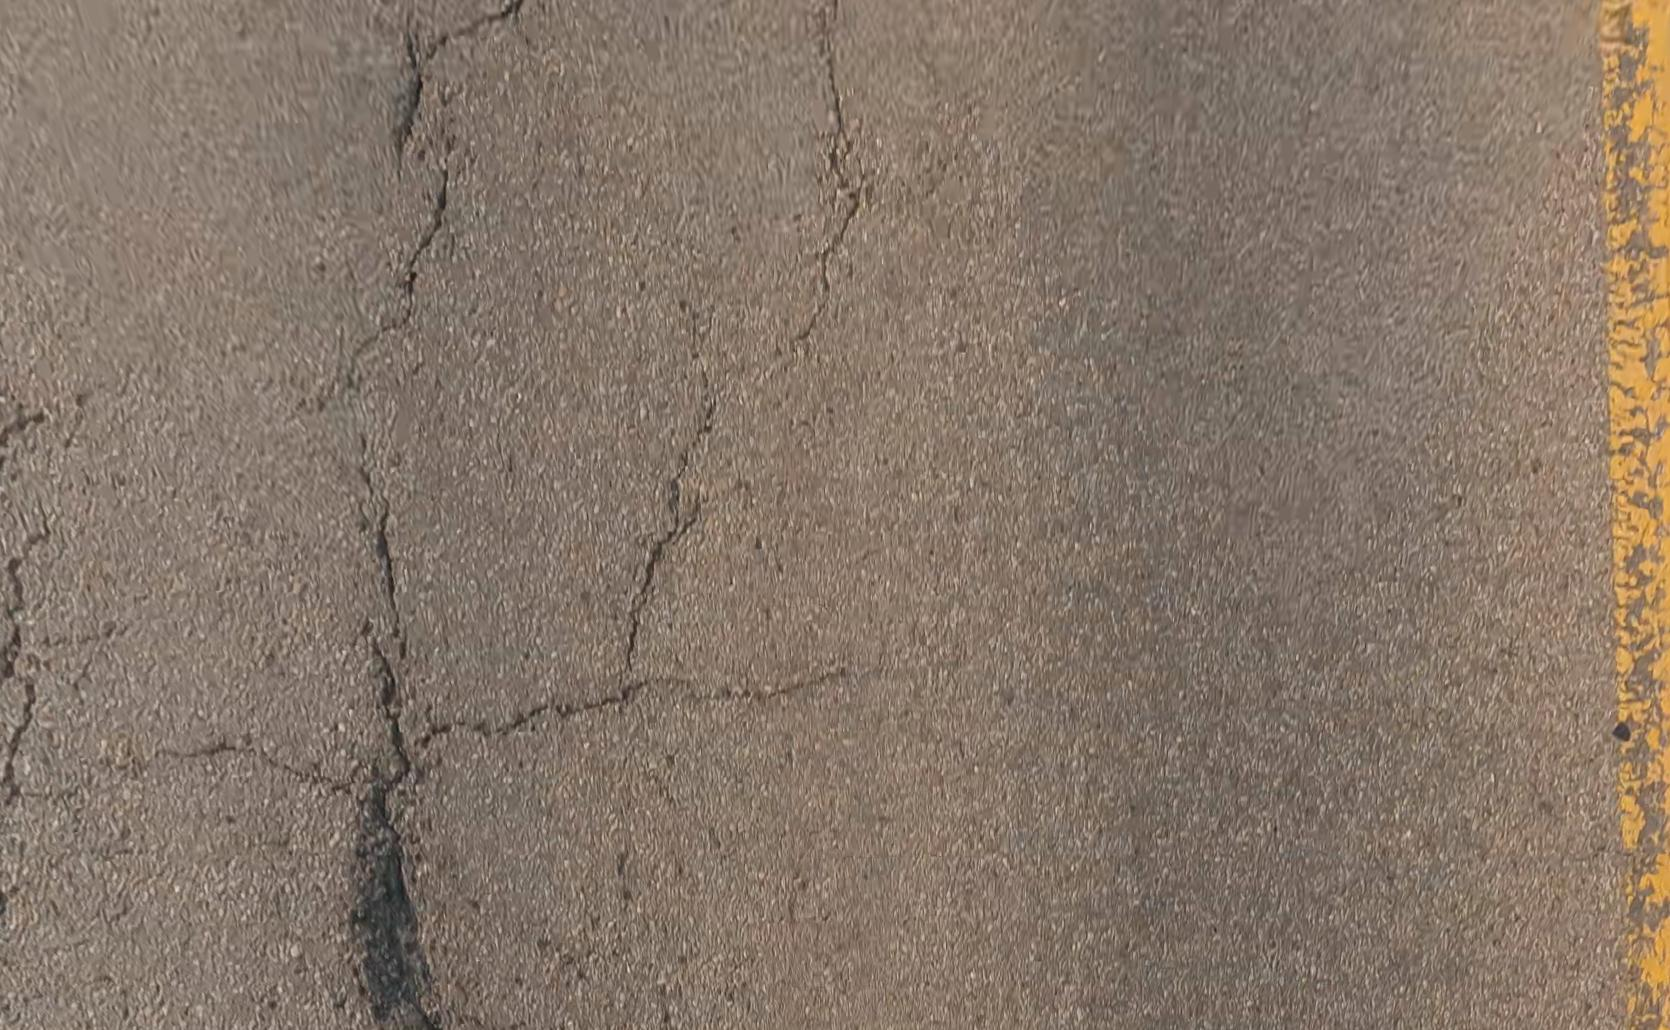pothole: (334, 779, 458, 1028)
